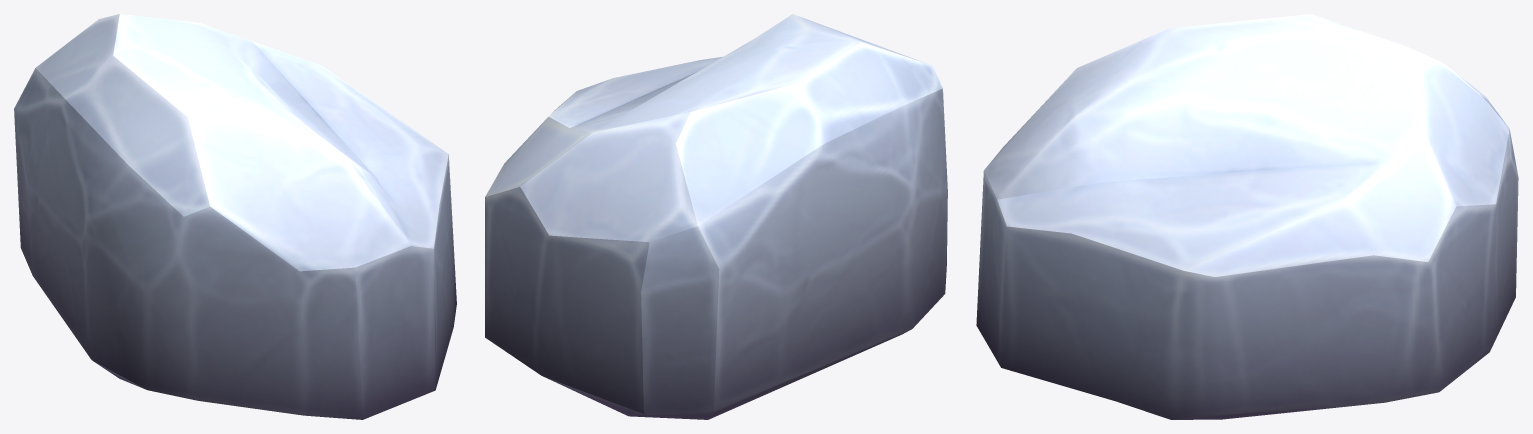
File: obj_stone11.gltf
3 renders of one model, left to right at view 1: azimuth 30°, elevation 25°; view 2: azimuth 150°, elevation 25°; view 3: azimuth 270°, elevation 25°, orthographic. The views are drawn at different scales.
Parts seen in each view (by area): view 1: obj_stone11; view 2: obj_stone11; view 3: obj_stone11.
Boxes of the visible parts, bbox=[...] form: obj_stone11: bbox=[14, 14, 456, 419]; obj_stone11: bbox=[485, 14, 947, 419]; obj_stone11: bbox=[976, 14, 1518, 419].
Size of what is drawn, in the model's own units: 1.13 by 0.8631 by 1.49.
1 material, 1 textured.
